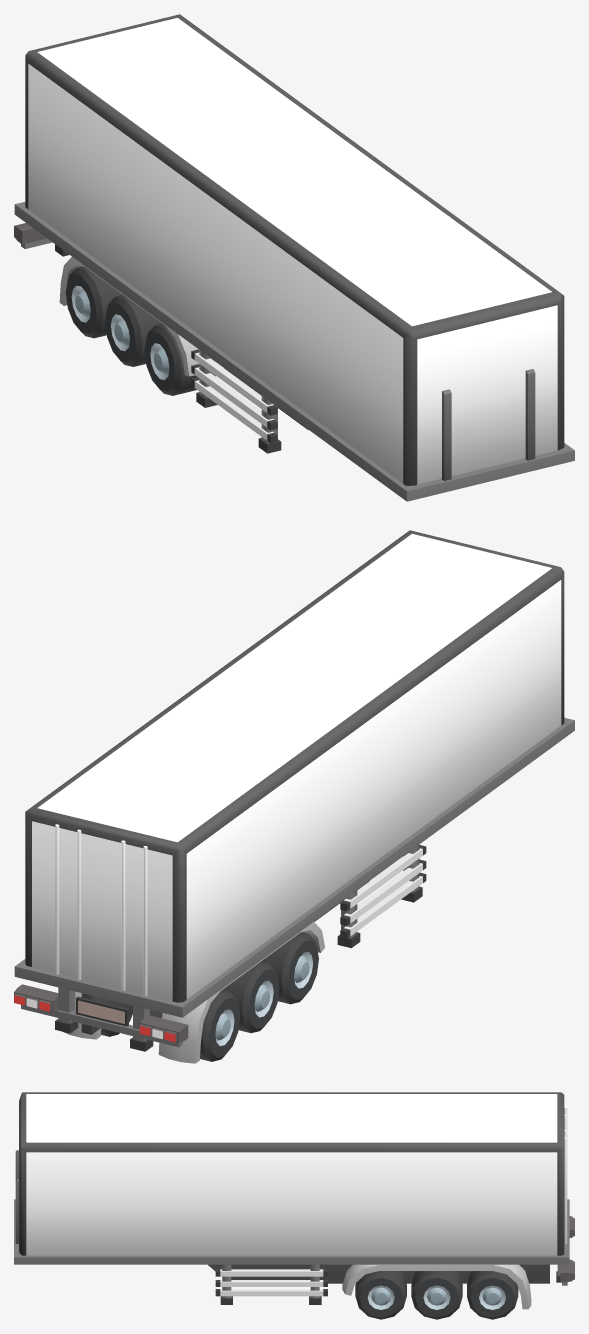
Rendered from Trailer_01.glb.
The picture shows the model from 3 angles, top to bottom: view 1: azimuth 30°, elevation 25°; view 2: azimuth 150°, elevation 25°; view 3: azimuth 270°, elevation 25°; orthographic projection. The views are drawn at different scales.
Parts seen in each view (by area): view 1: Trailer_01, Wheel_208, Wheel_207, Wheel_209; view 2: Trailer_01, Wheel_209, Wheel_208, Wheel_207; view 3: Trailer_01, Wheel_211, Wheel_210, Wheel_212.
Part boxes in pixels (x1,y1,x2,y2): Trailer_01: [14, 14, 574, 501]; Wheel_208: [105, 295, 161, 366]; Wheel_207: [65, 266, 122, 338]; Wheel_209: [144, 323, 197, 395]; Trailer_01: [14, 530, 574, 1063]; Wheel_209: [262, 932, 318, 1004]; Wheel_208: [222, 961, 279, 1032]; Wheel_207: [200, 990, 240, 1061]; Trailer_01: [14, 1092, 574, 1309]; Wheel_211: [411, 1271, 462, 1319]; Wheel_210: [355, 1271, 406, 1319]; Wheel_212: [467, 1271, 518, 1319].
Bounding box in the file's own units: 2.74 × 3.92 × 11.2.
2 materials, 2 textured.
